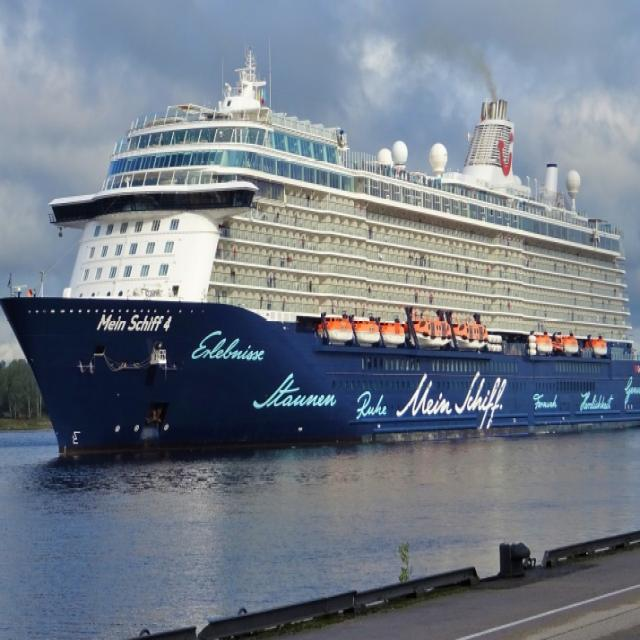cruises: (1, 51, 640, 465)
